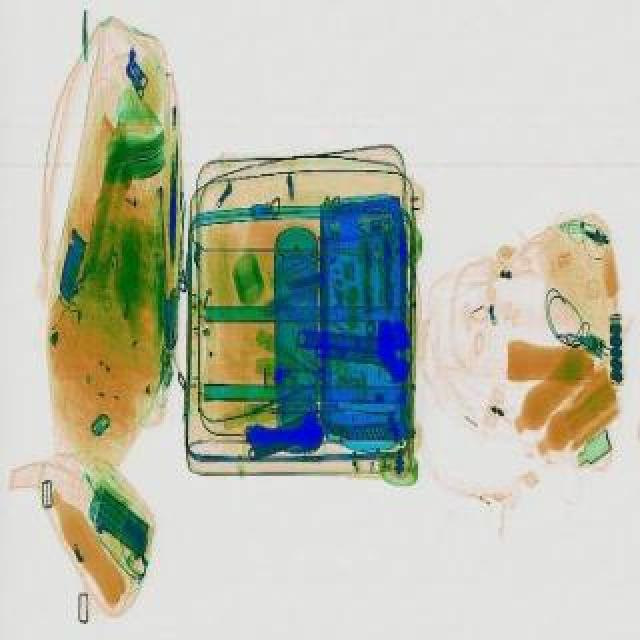scissors: (294, 310, 412, 370)
